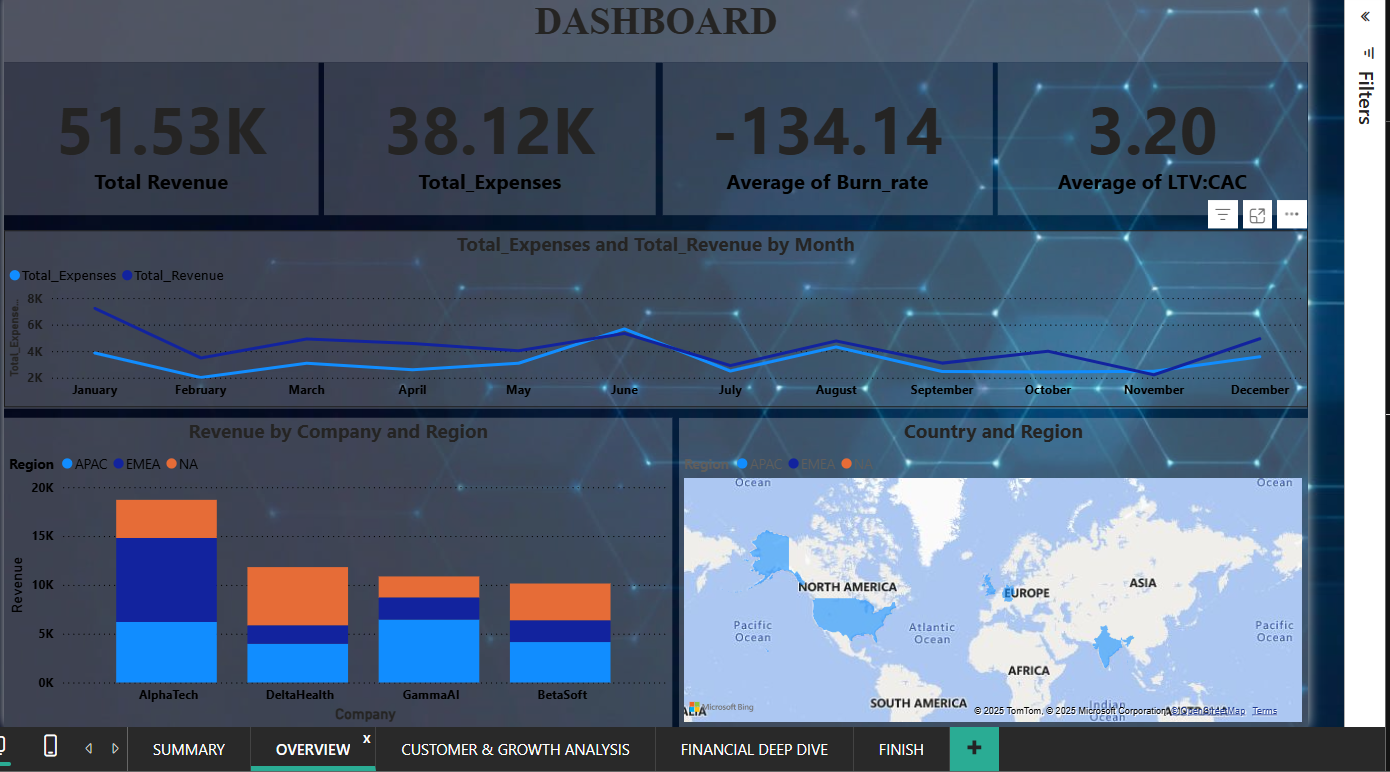

Layout of this report page (visuals, bound fields, positions):
{"tool":"powerbi","page":{"name":"OVERVIEW","canvas":[1280,720],"ordinal":1},"visuals":[{"type":"card","fields":{"Values":["Sum(Data.Revenue)"]},"box":[0,67.2,309.1,149.5],"z":0},{"type":"card","fields":{"Values":["Sum(Data.Total_Expenses)"]},"box":[314.1,67.2,325.9,149.5],"z":1000},{"type":"card","fields":{"Values":["Avg(Data.Burn_rate)"]},"box":[646.2,67.5,323.8,149.4],"z":2000},{"type":"card","fields":{"Values":["Avg(Data.LTV:CAC)"]},"box":[976,67.2,304,149.5],"z":3000},{"type":"lineChart","fields":{"Category":["Data.Date.Variation.Date Hierarchy.Month"],"Y":["Sum(Data.Total_Expenses)","Sum(Data.Revenue)"]},"box":[0.5,231.3,1279.5,174.9],"z":4000},{"type":"columnChart","fields":{"Category":["Data.Company"],"Y":["Sum(Data.Revenue)"],"Series":["Data.Region"]},"box":[0,416.4,656.4,303.6],"z":5000},{"type":"filledMap","fields":{"Category":["Data.Country"],"Series":["Data.Region"]},"box":[662.2,416.4,617.3,303.6],"z":6000},{"type":"textbox","box":[0,0,1280,67.2],"z":7000}]}

Visuals, with their boxes on the page's 1280x720 design canvas (x1, y1, x2, y2). These are canvas units, not pixel positions in the 1390x772 screenshot, which may show the page scaled, cropped or inside an application window:
card - Sum(Data.Revenue): (0,67,309,217)
card - Sum(Data.Total_Expenses): (314,67,640,217)
card - Avg(Data.Burn_rate): (646,68,970,217)
card - Avg(Data.LTV:CAC): (976,67,1280,217)
lineChart - Data.Date.Variation.Date Hierarchy.Month x Sum(Data.Total_Expenses): (0,231,1280,406)
columnChart - Data.Company x Sum(Data.Revenue): (0,416,656,720)
filledMap - Data.Country x Data.Region: (662,416,1280,720)
textbox: (0,0,1280,67)
